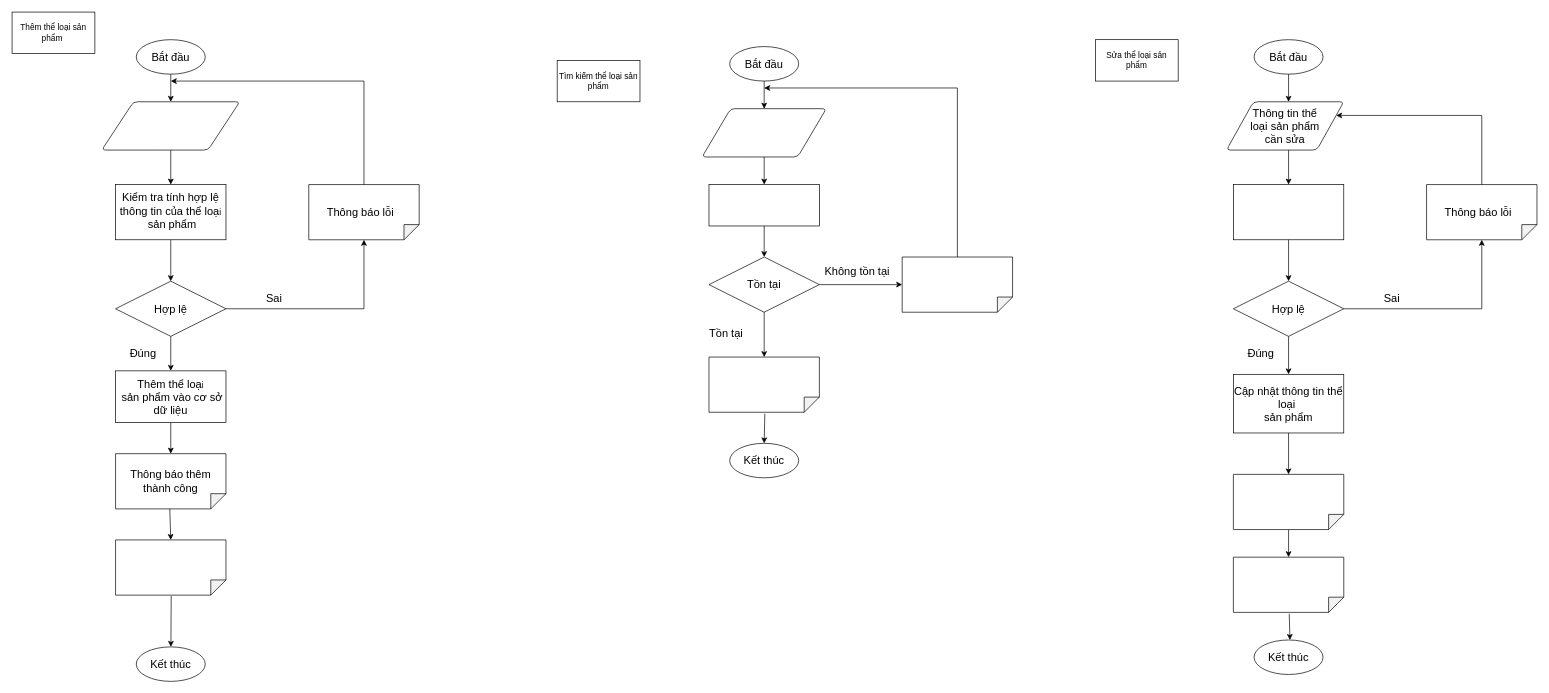
Some shapes in this 1549 by 693 pixel diagram are drawn without their labels. The centre of each missing label's shape, as x and y in pixels:
"Danh mục hiển thị thể loạ i sản phẩm" goes at [170,567].
"Hiển thị thông tin mới của sản phẩm" goes at [1288,584].
"Hiển thị thể loại sản phẩm tìm được" goes at [763,384].
"Kiểm tra tính hợp lệ thông tin của thể loại sản phẩm" goes at [1288,212].
"Thông báo không tìm thấy" goes at [957,284].
"Thông báo sửa thành công" goes at [1288,502].
"Thông tin thể loạ i sản phẩm mới" goes at [170,125].
"Tên hoặc mã thể loại sản phẩm" goes at [763,132].
"Tìm kiếm trong cơ sở dữ liệu" goes at [763,205].
